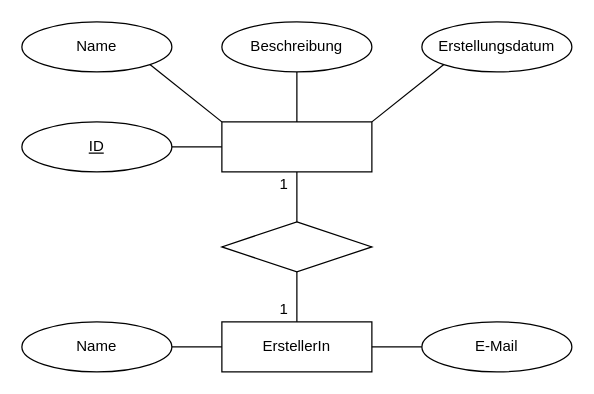
The diagram is 594 pixels wide and 394 high, and some of its shapes have lost their labels. The centre of each missing label's shape, as x and y in pixels:
"hat" belongs at point 296,246.
"Wunschgericht" belongs at point 296,146.
